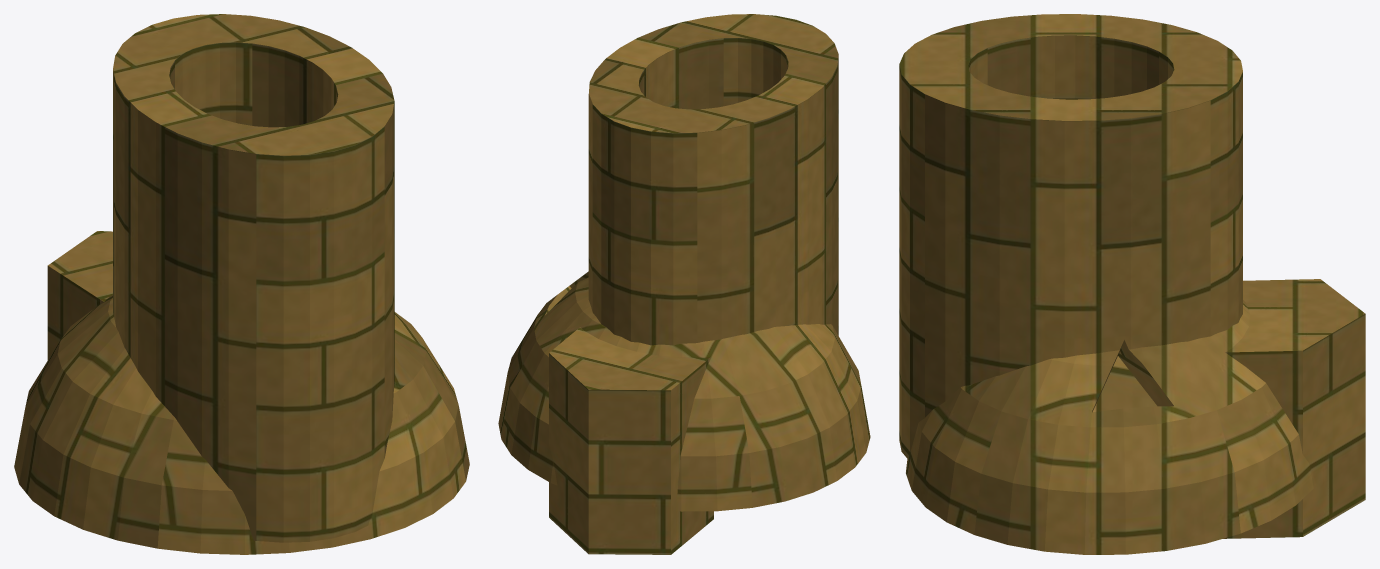
3 views of the same model, side by side, from view 1: azimuth 30°, elevation 25°; view 2: azimuth 150°, elevation 25°; view 3: azimuth 270°, elevation 25° (orthographic). The views are drawn at different scales.
Visible parts, largest first — view 1: geometry_0; view 2: geometry_0; view 3: geometry_0.
Part boxes in pixels (x1,y1,x2,y2): geometry_0: (14, 14, 469, 554); geometry_0: (498, 14, 870, 554); geometry_0: (899, 14, 1365, 554).
Size of the model in its own units: 1.55 by 1.71 by 1.66.
Materials: 1 (1 with a texture image).
